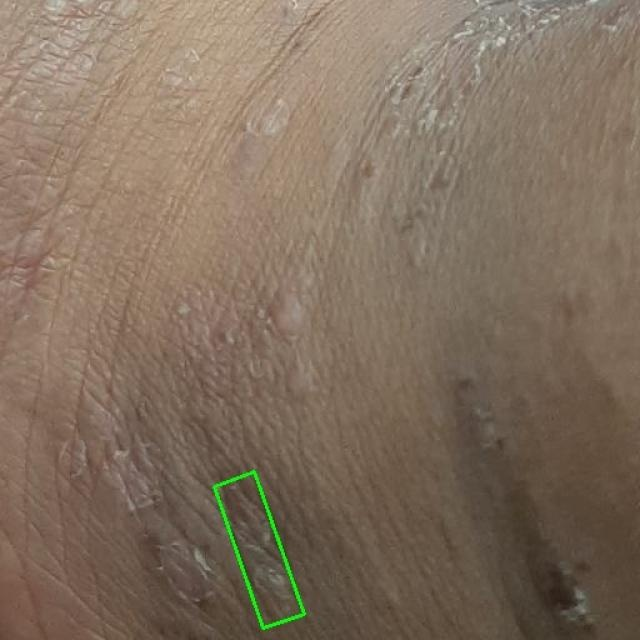Eczema: (214, 472, 304, 628)
